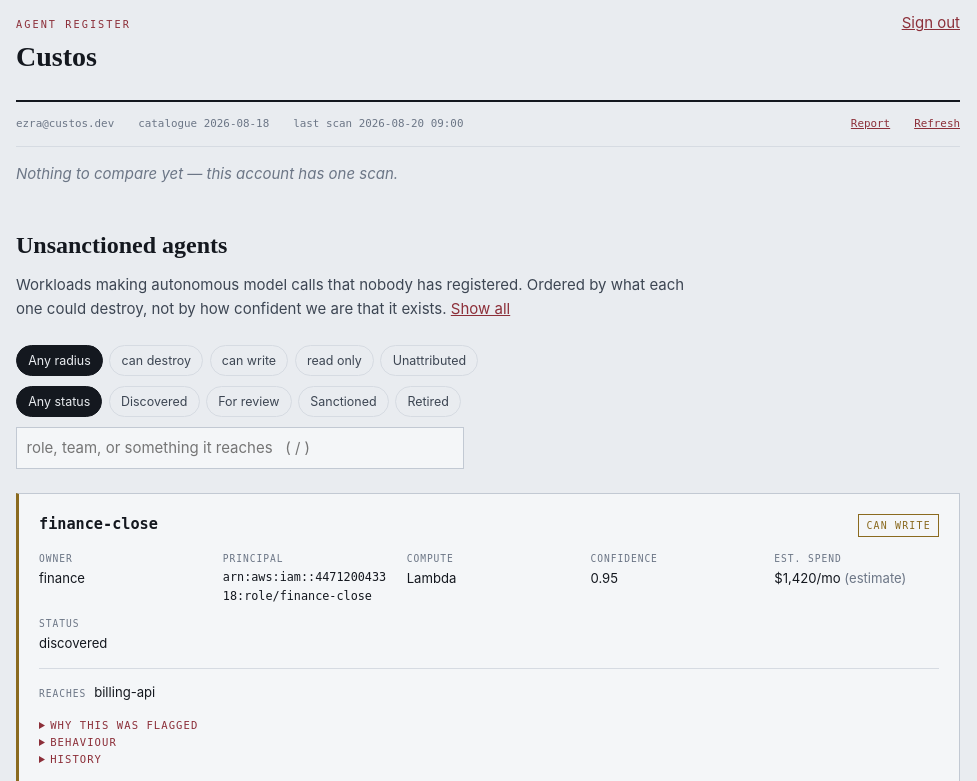
Test: the audit trail › is reachable from a finding and scoped to that agent
Expected: the heading "finance-close" is shown, [39,512,158,536]
Click the heading "History": (76,759) [50,753,102,765]
(page scrolled)
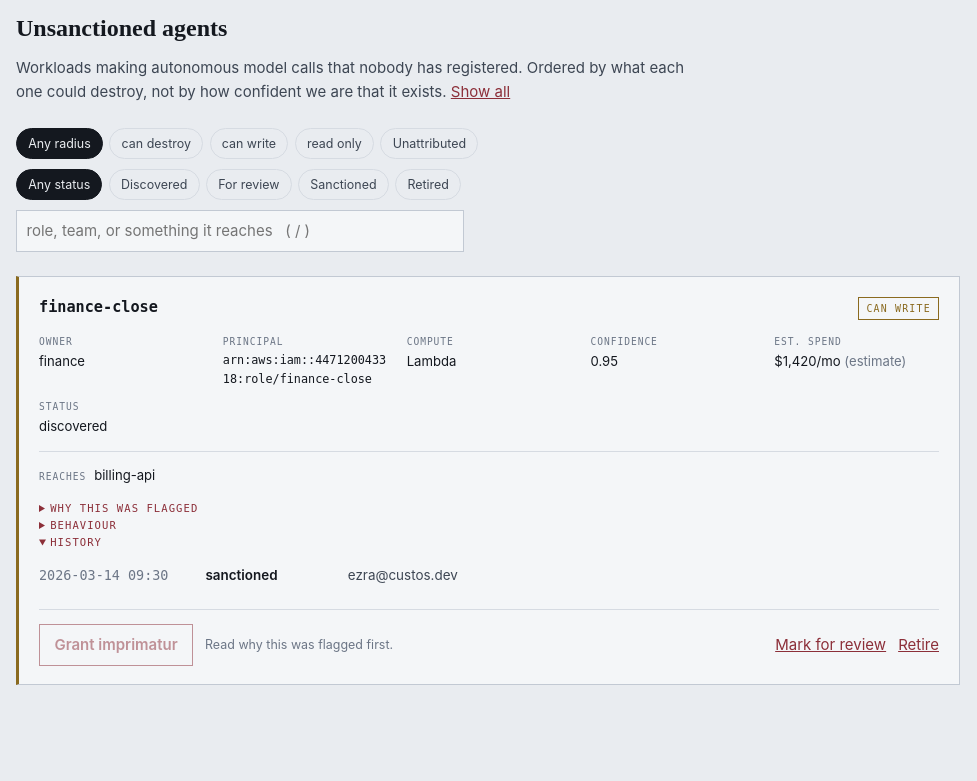
Expected: the text "sanctioned" is shown, [205,567,278,583]
